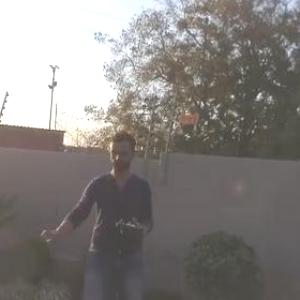follow: (34, 120, 156, 299)
